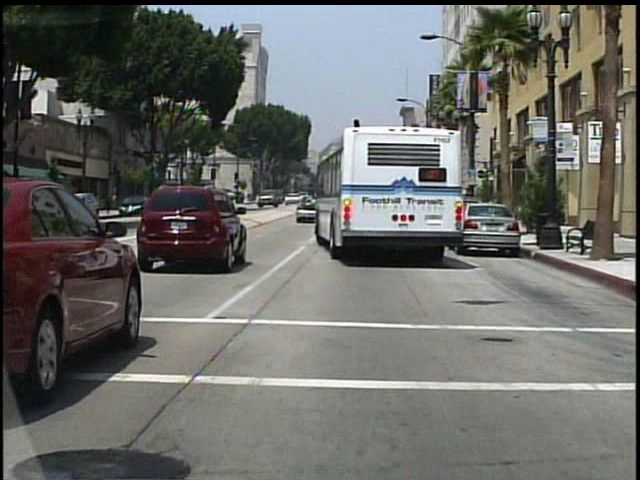person: (470, 184, 482, 226)
